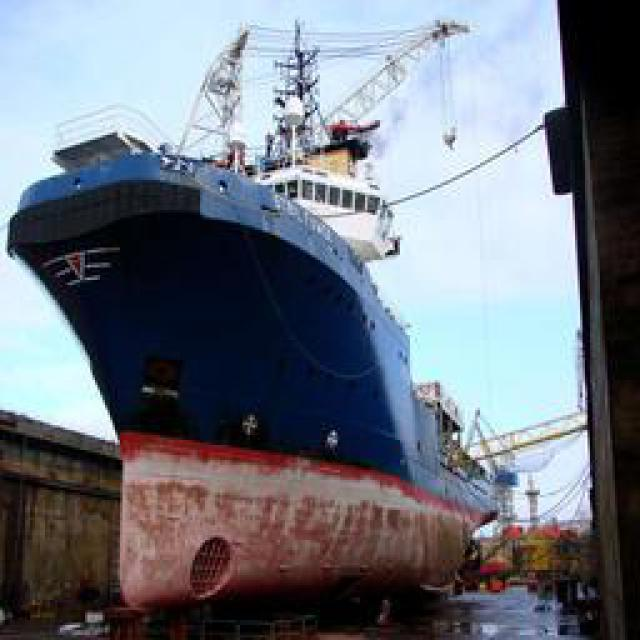Ship: (1, 41, 544, 617)
